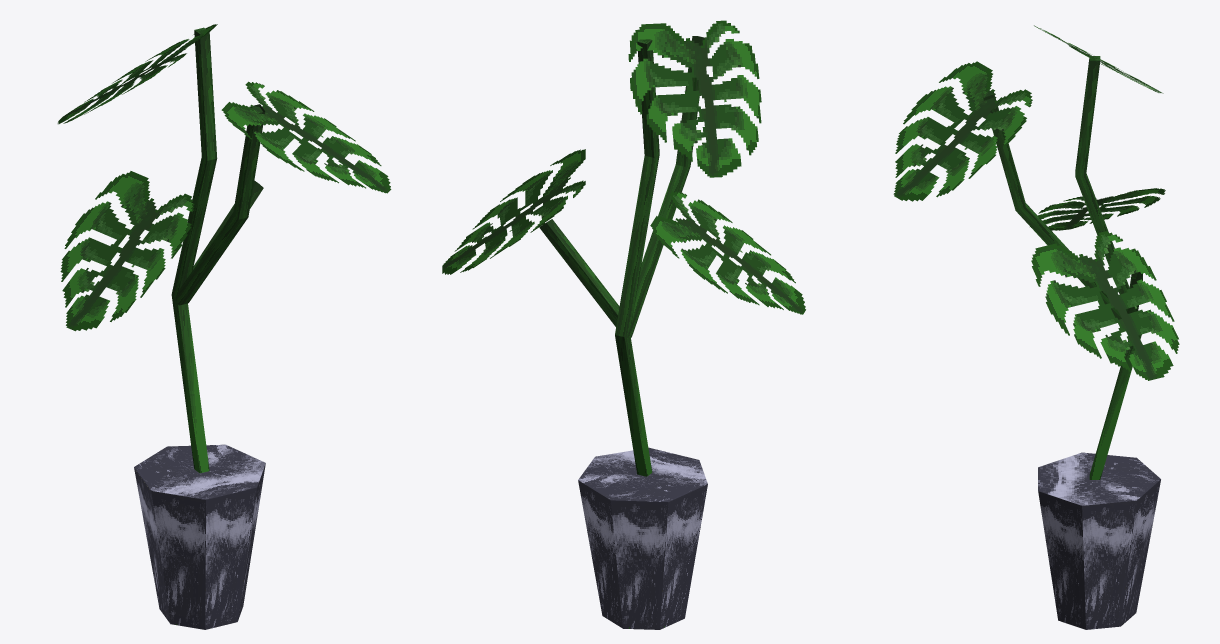
File: plant3.gltf
3 views of the same model, side by side, from view 1: azimuth 30°, elevation 25°; view 2: azimuth 150°, elevation 25°; view 3: azimuth 270°, elevation 25° (orthographic). The views are drawn at different scales.
Parts seen in each view (by area): view 1: plant3; view 2: plant3; view 3: plant3.
Boxes of the visible parts, left/top/right/bottom form: plant3: left=57, top=24, right=391, bottom=629; plant3: left=442, top=20, right=805, bottom=629; plant3: left=893, top=25, right=1179, bottom=629.
Size of the model in its own units: 7.14 by 10.86 by 6.22.
Materials: 2 (2 with a texture image).
